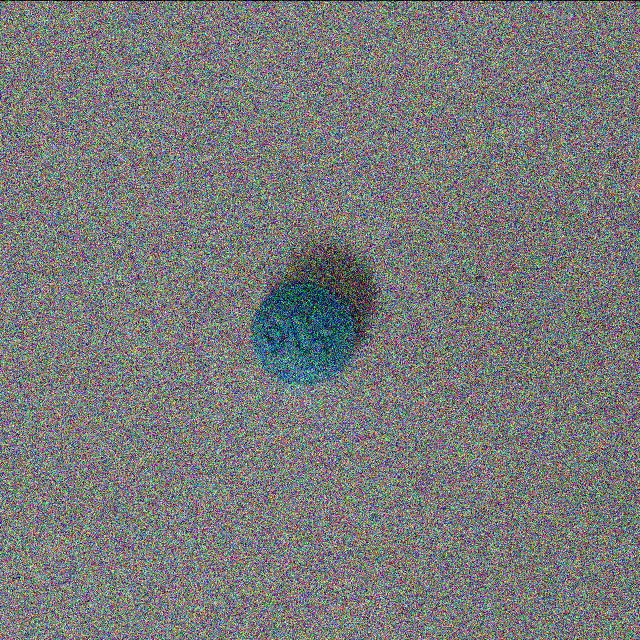pill: (248, 278, 364, 396)
